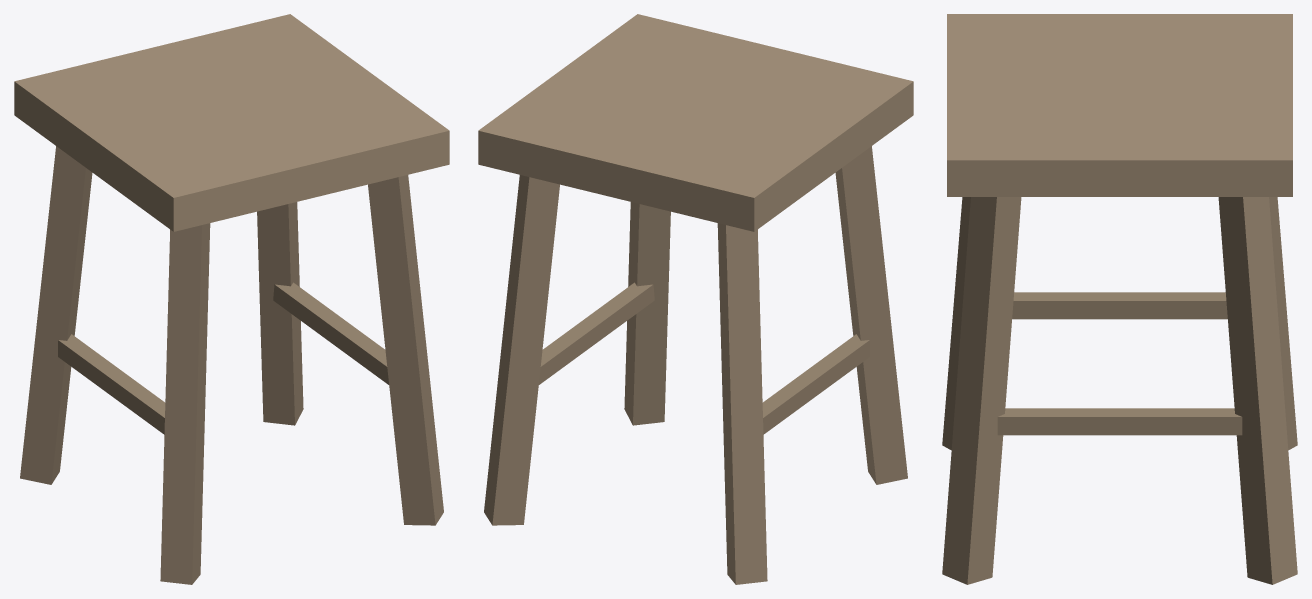
Rendered from SM_BM_BP_Stool.glb.
The picture shows the model from 3 angles, left to right: view 1: azimuth 30°, elevation 25°; view 2: azimuth 150°, elevation 25°; view 3: azimuth 270°, elevation 25°; orthographic projection. The views are drawn at different scales.
Visible parts, largest first — view 1: SM_BM_BP_Stool; view 2: SM_BM_BP_Stool; view 3: SM_BM_BP_Stool.
Part boxes in pixels (left/top/right/bottom): SM_BM_BP_Stool: left=14, top=14, right=449, bottom=584; SM_BM_BP_Stool: left=478, top=14, right=913, bottom=584; SM_BM_BP_Stool: left=942, top=14, right=1297, bottom=584.
Bounding box in the file's own units: 0.3494 × 0.4618 × 0.3494.
